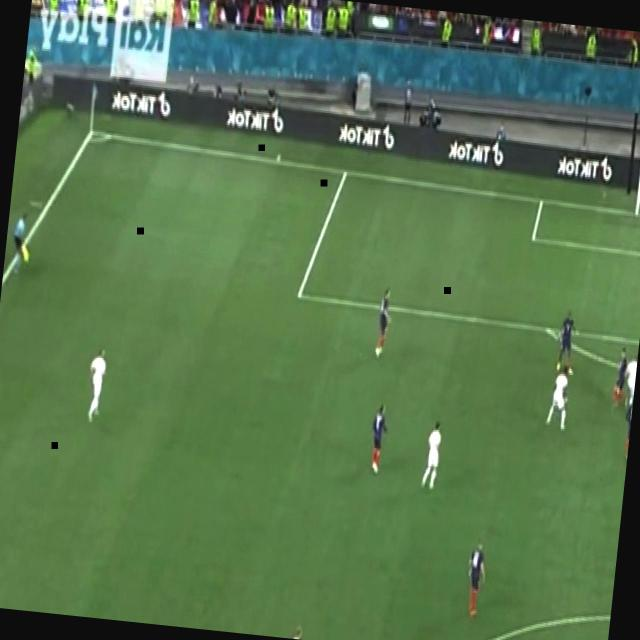player-white: (463, 540, 491, 622), (544, 361, 574, 433), (83, 347, 110, 427), (553, 306, 581, 381), (366, 401, 392, 477), (419, 420, 445, 493), (374, 285, 396, 359), (8, 210, 30, 280), (610, 344, 631, 414), (620, 350, 638, 410), (620, 391, 634, 463), (290, 622, 311, 640)
